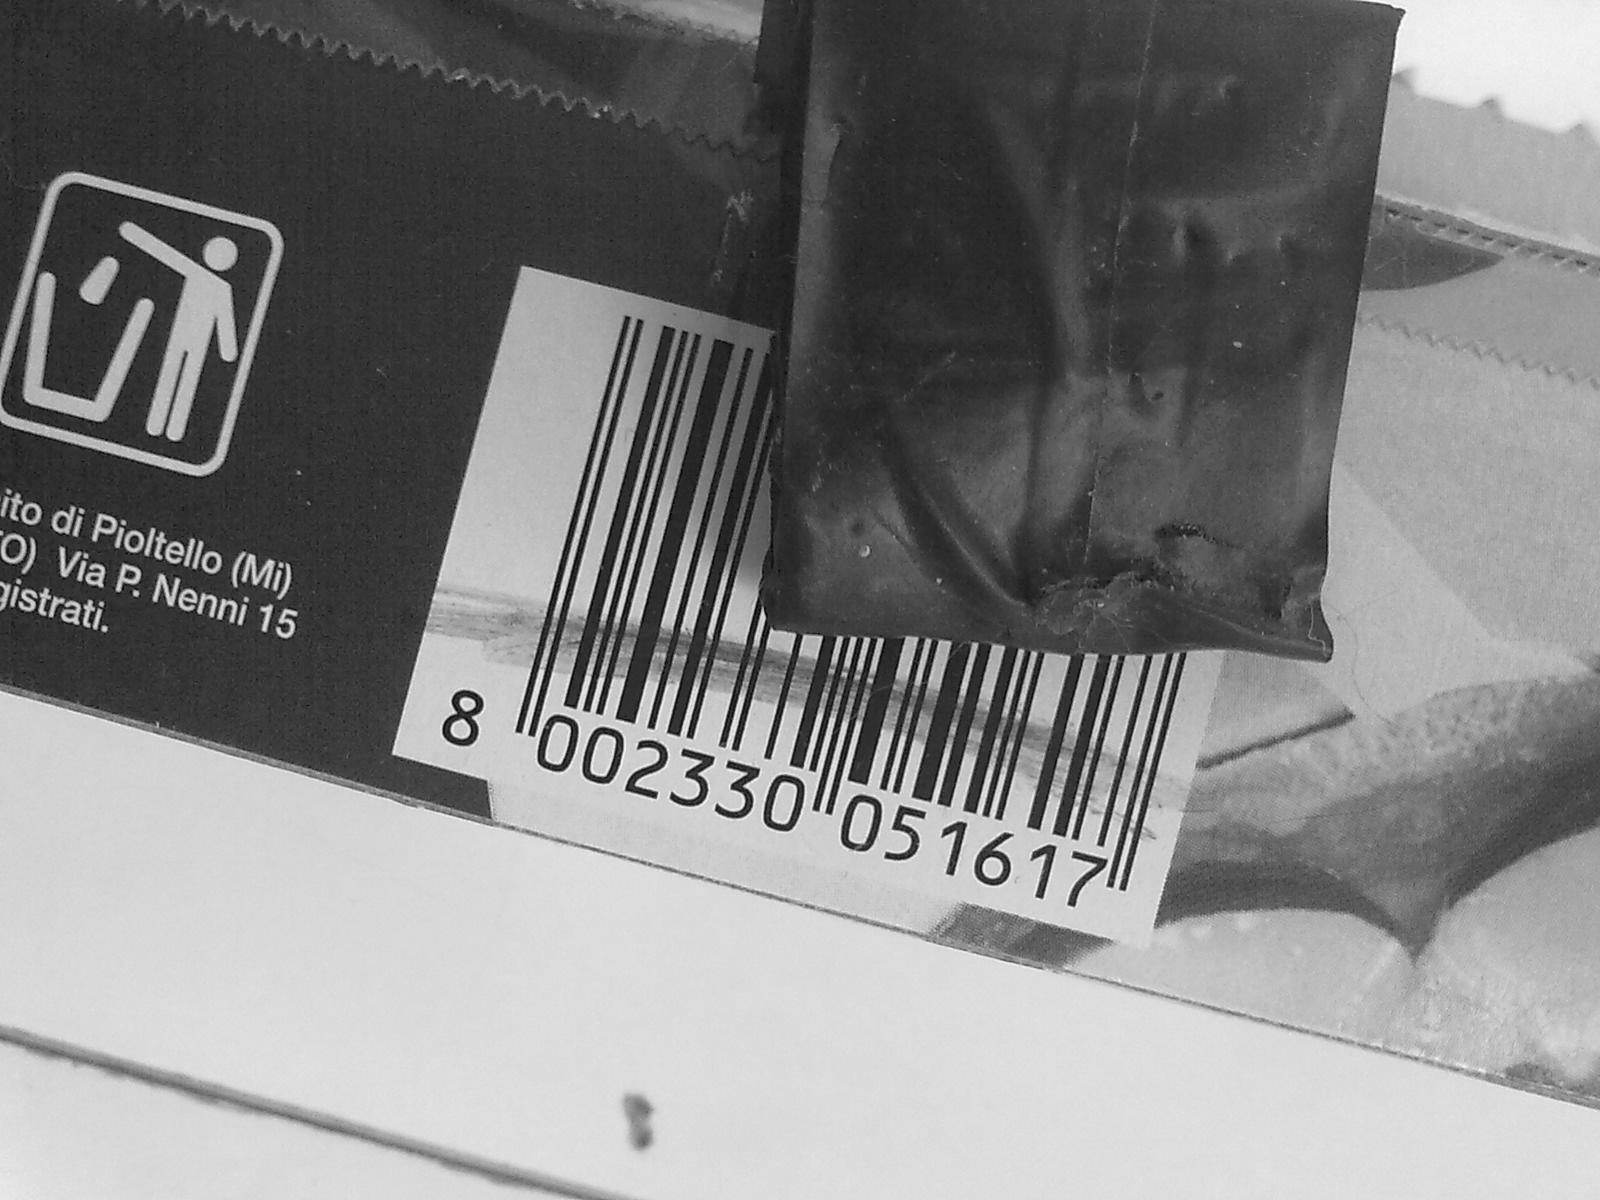Barcode: (460, 224, 1240, 909)
